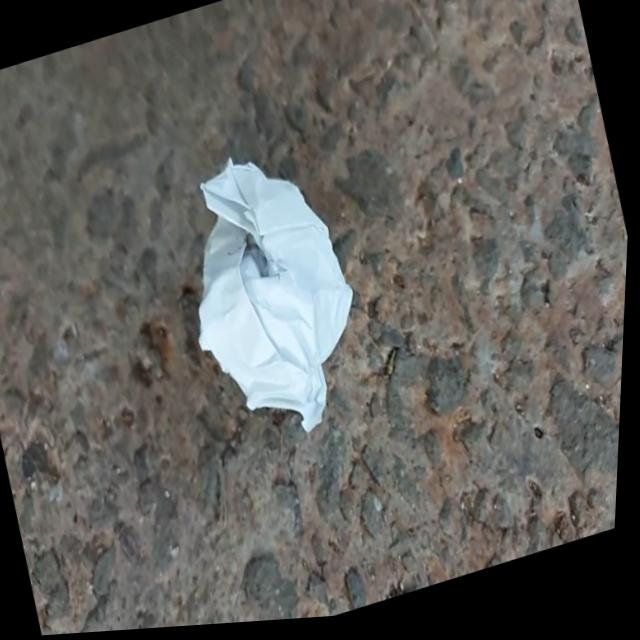paper: (133, 111, 399, 473)
